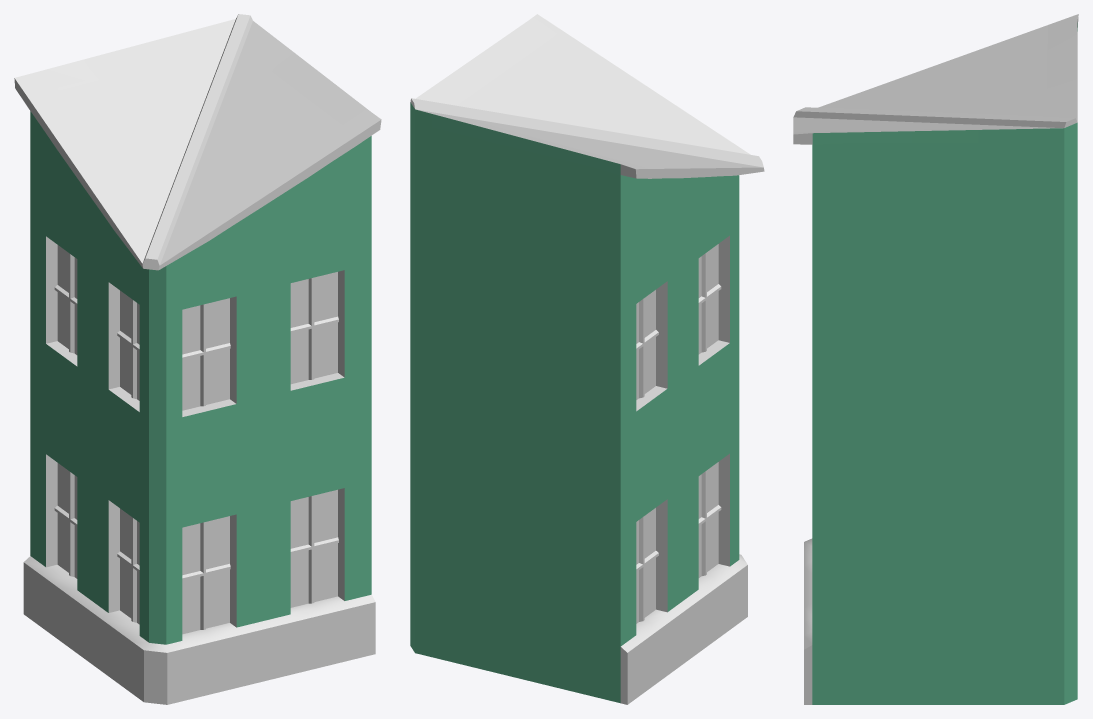
Rendered from CornerBuilding_Concave.fbx.
3 renders of one model, left to right at view 1: azimuth 30°, elevation 25°; view 2: azimuth 150°, elevation 25°; view 3: azimuth 270°, elevation 25°, orthographic. The views are drawn at different scales.
Visible parts, largest first — view 1: Concept5; view 2: Concept5; view 3: Concept5.
Boxes of the visible parts, left/top/right/bottom form: Concept5: left=14, top=14, right=381, bottom=704; Concept5: left=410, top=14, right=764, bottom=704; Concept5: left=793, top=14, right=1078, bottom=704.
Bounding box in the file's own units: 2.04 × 4.59 × 2.04.
